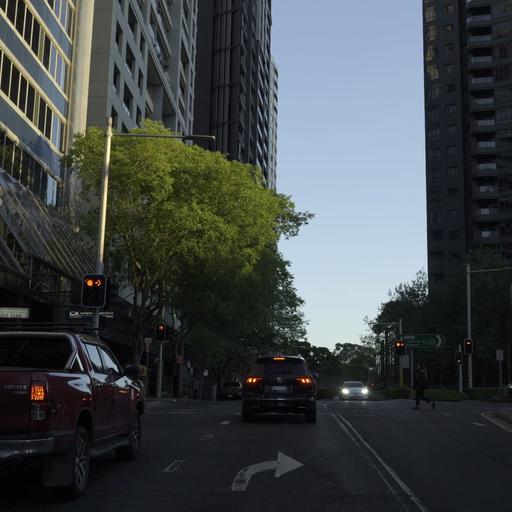Street light: (87, 115, 216, 336), (464, 260, 511, 392)
